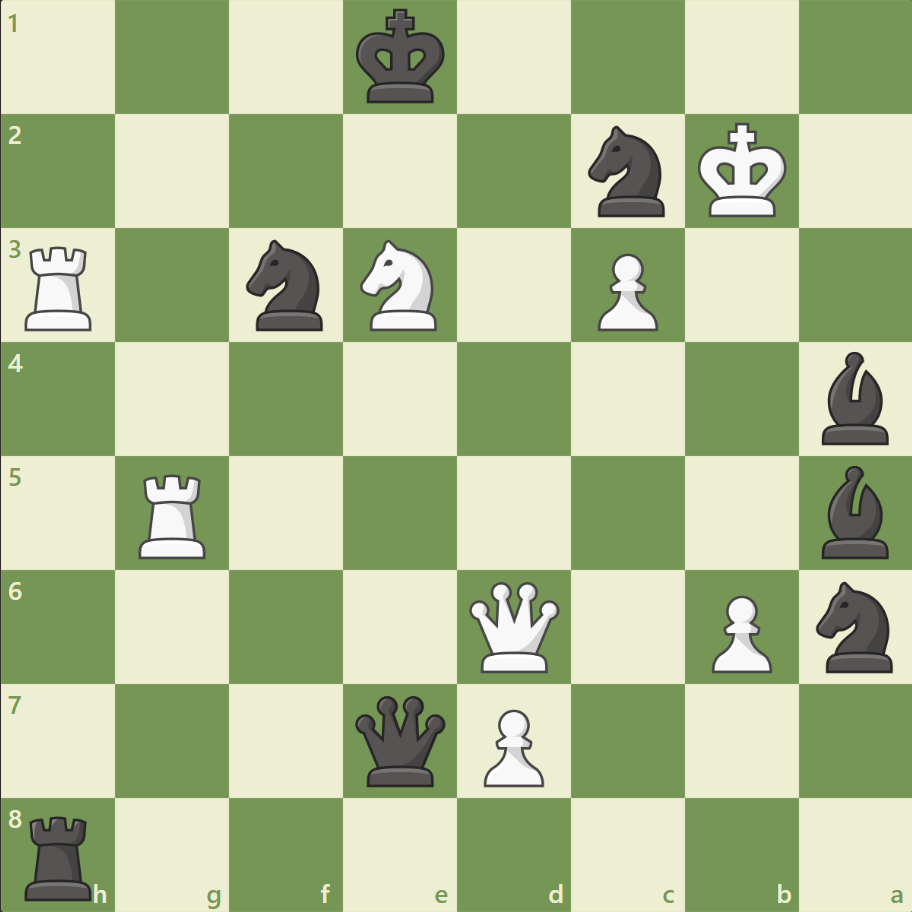K: (692, 117, 792, 225)
N: (351, 234, 449, 337)
P: (474, 700, 549, 791), (701, 586, 776, 677), (588, 246, 662, 337)
Q: (464, 576, 563, 676)
R: (19, 239, 102, 336), (133, 466, 215, 563)
b: (812, 460, 896, 563), (812, 347, 896, 449)
k: (351, 4, 451, 112)
n: (238, 234, 335, 337), (806, 575, 903, 677), (579, 121, 676, 223)
q: (351, 690, 450, 789)
r: (19, 806, 102, 904)
